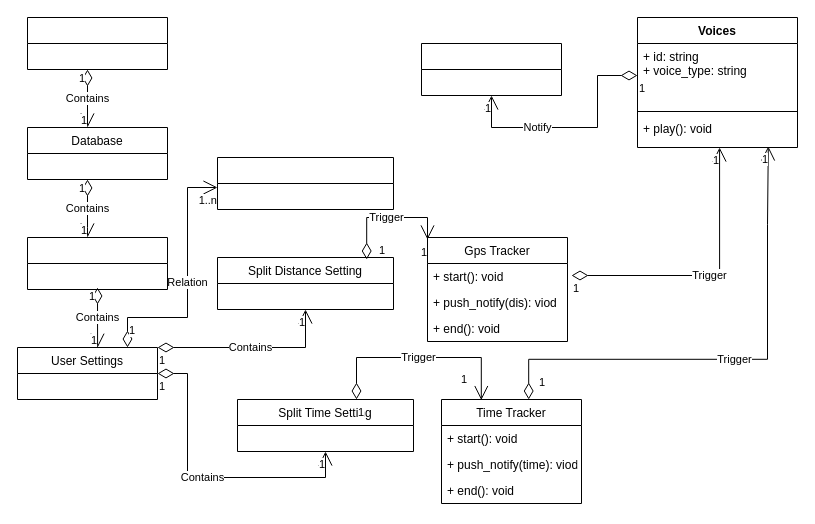
Image size: 815x524. Some labels were removed from this diagram. Here are the shapes that lost their labels. From the top down, the centre of each, then its label:
the point at 97,43: System
the point at 491,69: User
the point at 305,183: Other Settings
the point at 97,263: User Account
